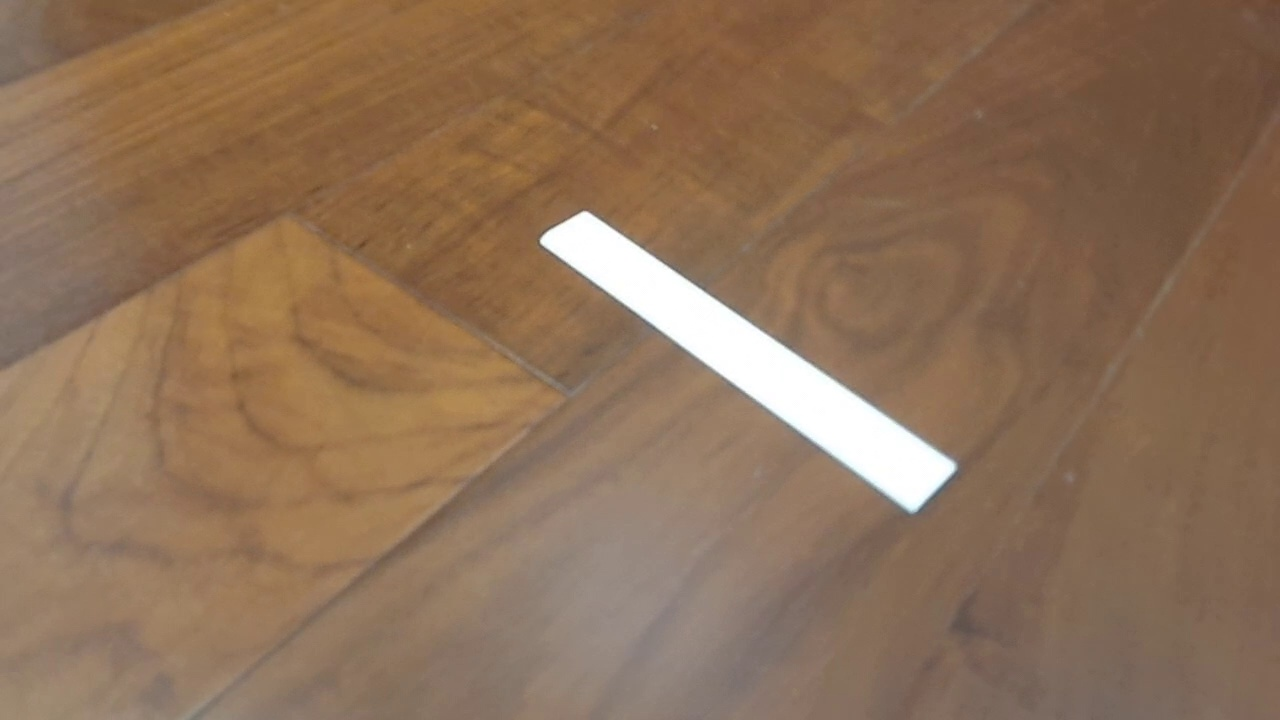ruler: (536, 208, 961, 515)
